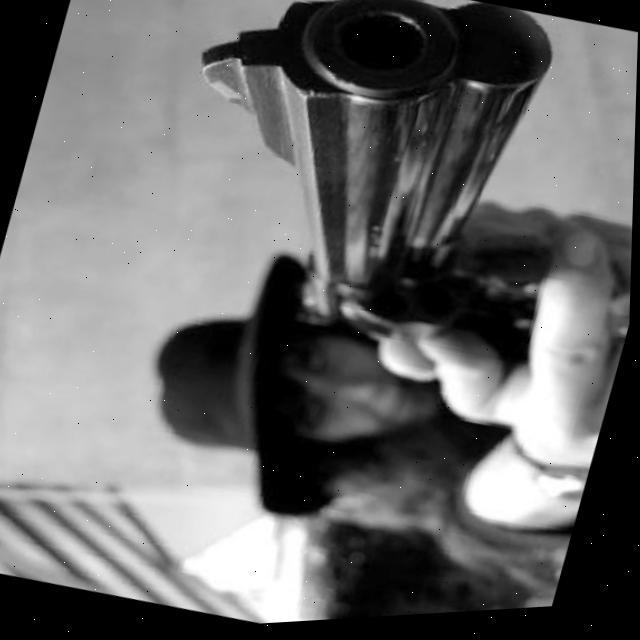gun: (118, 0, 623, 400)
